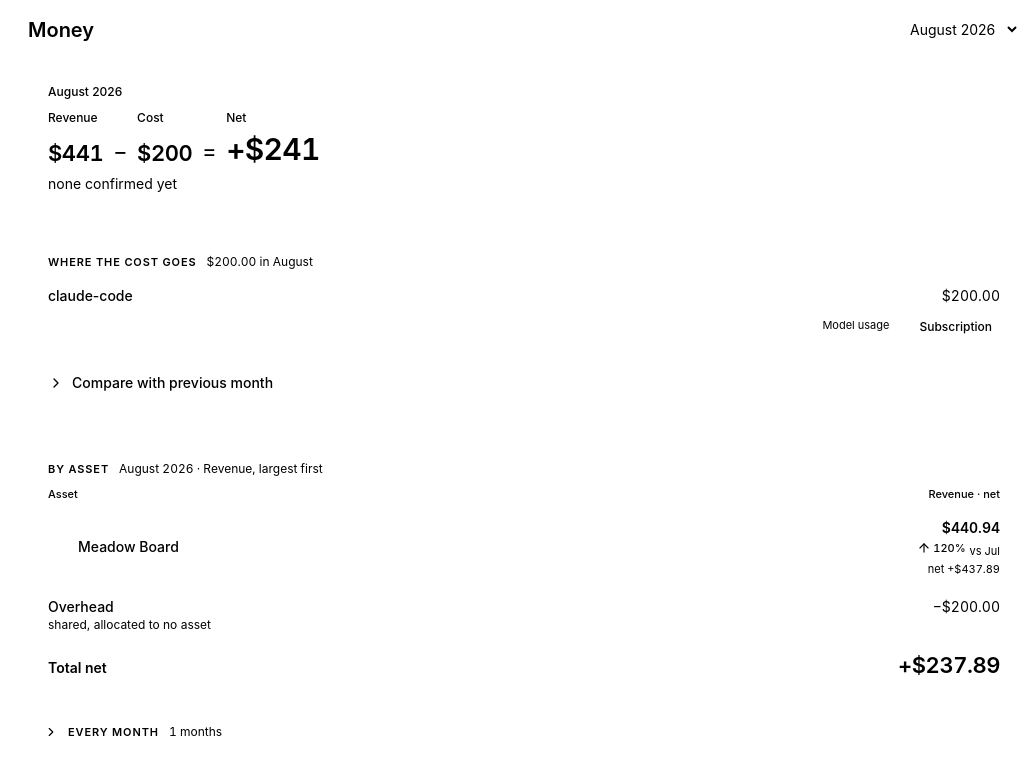
Test: /financials — picking a period › puts a chosen month in the URL and asks the store for it
Select "June 2026" in the dropdown named "Accounting period" at (959, 30), box [898, 16, 1020, 43]
(page scrolled)
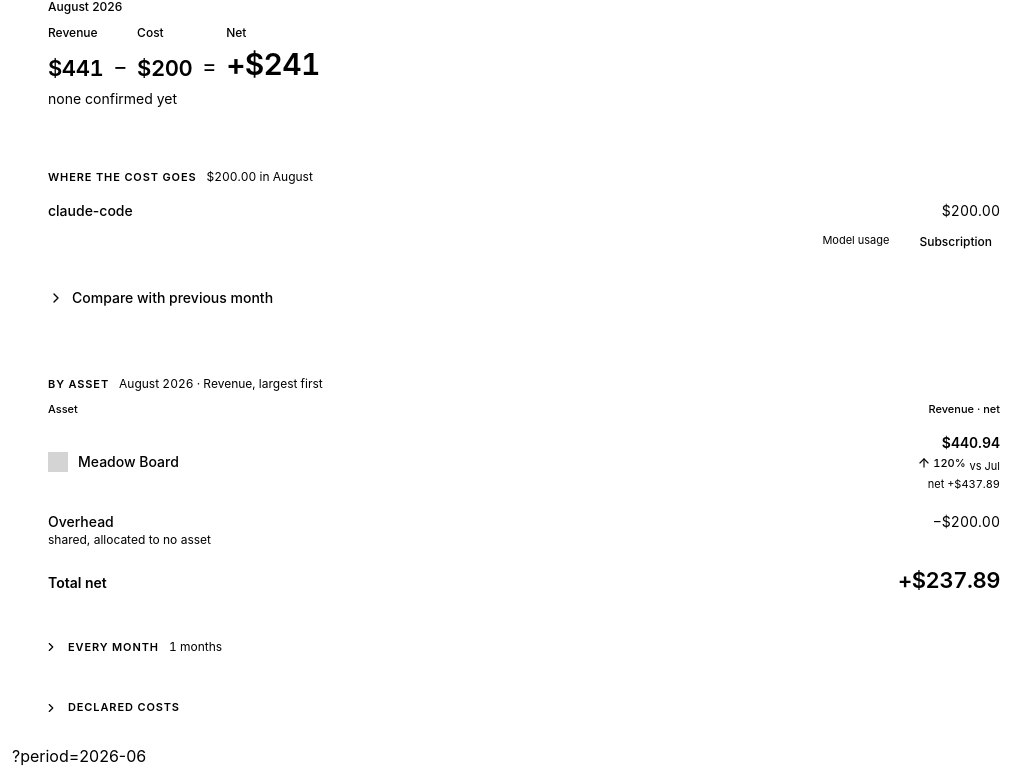
Check: the text with test id "search" reads "?period=2026-06", box [12, 746, 146, 766]
